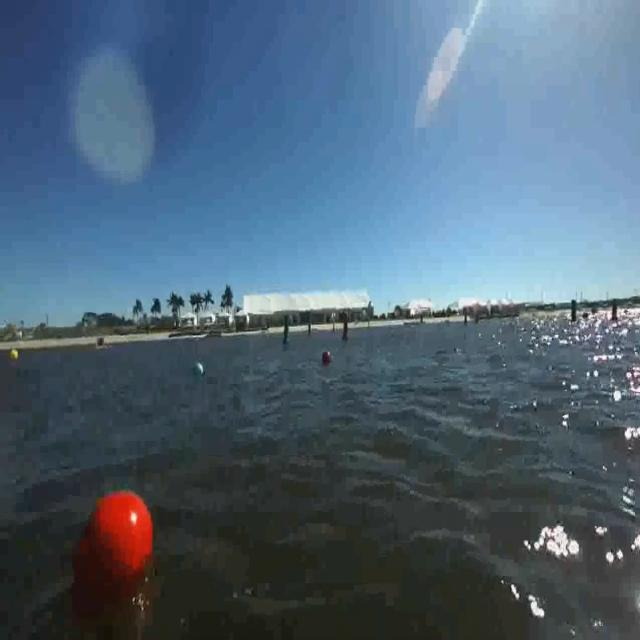green-buoy: (192, 362, 202, 376)
green-column-buoy: (282, 313, 290, 348)
red-buoy: (70, 484, 166, 599), (322, 350, 332, 367)
yellow-buoy: (9, 348, 19, 362)
